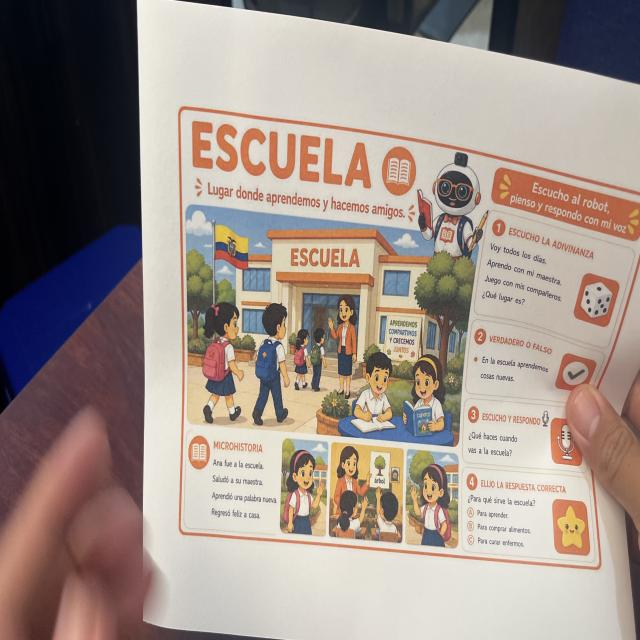escuela: (175, 100, 640, 574)
